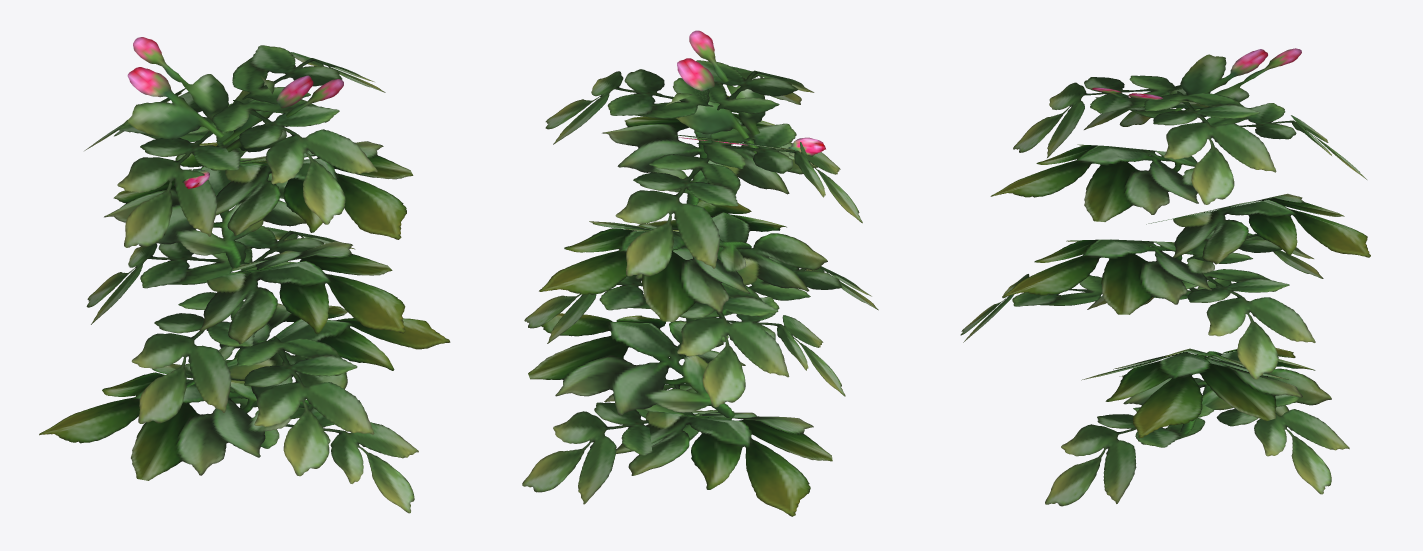
Rendered from wm_灌木山茶花01.fbx.
3 views of the same model, side by side, from view 1: azimuth 30°, elevation 25°; view 2: azimuth 150°, elevation 25°; view 3: azimuth 270°, elevation 25° (orthographic). The views are drawn at different scales.
Visible parts, largest first — view 1: wm_灌木山茶花01; view 2: wm_灌木山茶花01; view 3: wm_灌木山茶花01.
Boxes of the visible parts, <box> form: wm_灌木山茶花01: <box>39,37,450,513</box>; wm_灌木山茶花01: <box>522,30,878,516</box>; wm_灌木山茶花01: <box>960,48,1370,506</box>.
Bounding box in the file's own units: 154 × 160 × 165.
